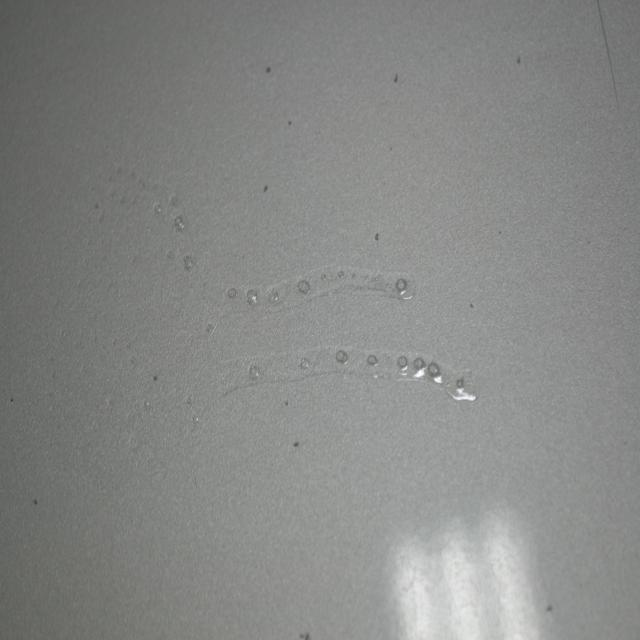dirt: (465, 294, 477, 314), (391, 70, 403, 88), (372, 227, 382, 248), (31, 492, 42, 509), (290, 438, 302, 451), (515, 49, 523, 68), (8, 394, 17, 409), (282, 398, 292, 408), (286, 119, 294, 129), (265, 63, 271, 76), (262, 182, 268, 193)
runs: (66, 171, 481, 434)
scratch: (598, 18, 624, 115)
